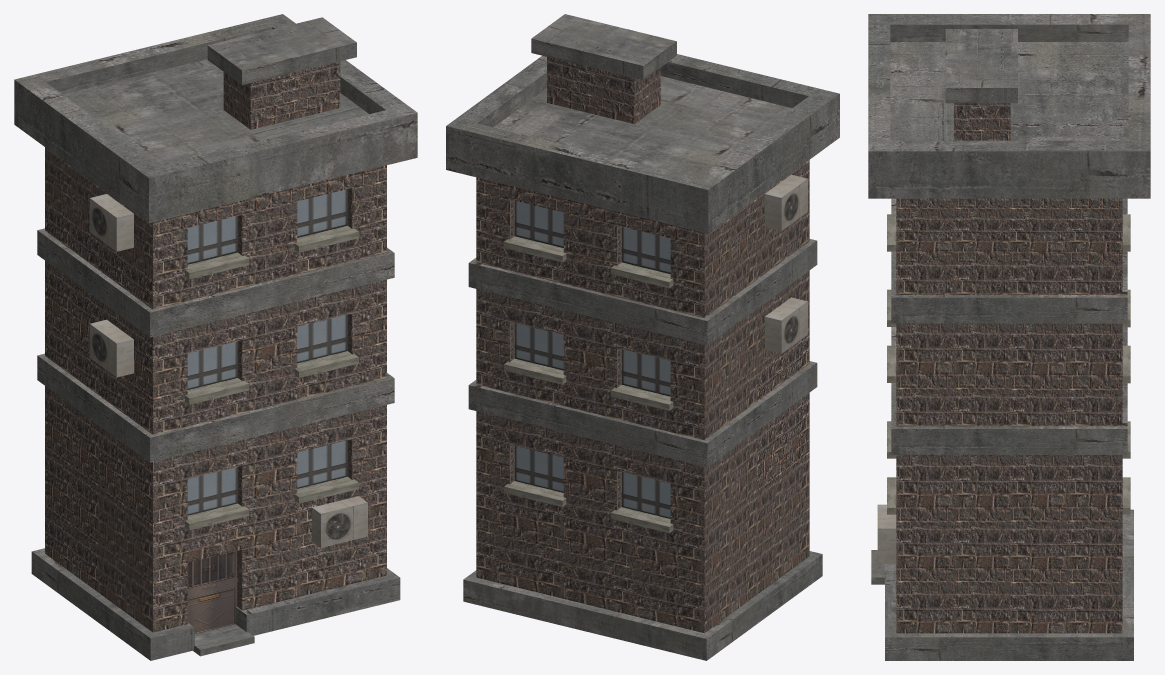
Rendered from Building04A2.fbx.
3 renders of one model, left to right at view 1: azimuth 30°, elevation 25°; view 2: azimuth 150°, elevation 25°; view 3: azimuth 270°, elevation 25°, orthographic. The views are drawn at different scales.
Visible parts, largest first — view 1: UB; view 2: UB; view 3: UB.
Part boxes in pixels (<box>): UB: <box>14,14,417,660</box>; UB: <box>446,14,839,660</box>; UB: <box>868,14,1150,660</box>.
Size of the model in its own units: 5.15 by 9.91 by 4.48.
